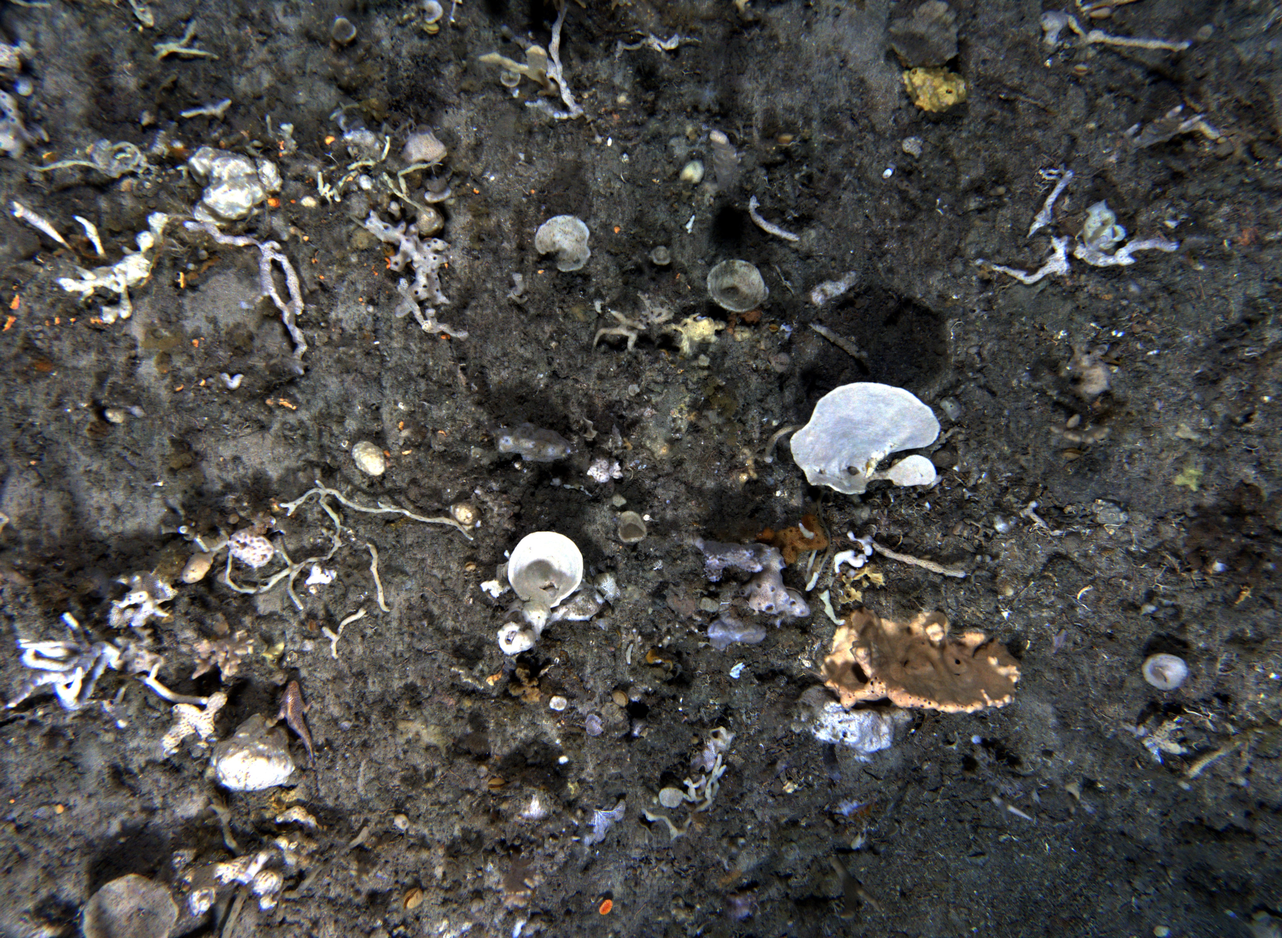Brachionichthyidae: (270, 679, 316, 762)
